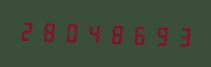eight: (39, 17, 60, 45), (105, 20, 126, 47)
four: (83, 19, 104, 46)
nine: (149, 21, 170, 49)
six: (127, 20, 148, 48)
three: (171, 22, 192, 50)
two: (17, 16, 38, 44)
zero: (61, 18, 82, 46)
